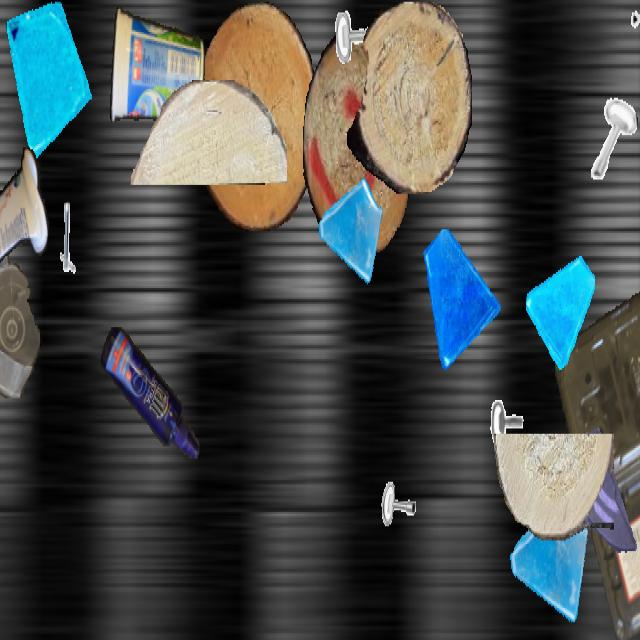glass: (5, 2, 97, 165), (508, 489, 592, 638), (421, 230, 501, 372), (562, 416, 640, 558), (317, 172, 385, 294), (526, 247, 594, 368)
metal: (329, 2, 389, 108), (375, 439, 427, 532), (587, 92, 637, 182), (37, 188, 87, 278), (488, 366, 534, 448), (630, 2, 640, 73)
plastic: (555, 265, 640, 638), (101, 327, 199, 459), (108, 2, 204, 126), (0, 144, 49, 297), (0, 240, 40, 396)
wood: (195, 2, 319, 229), (347, 2, 471, 194), (303, 36, 411, 252), (130, 80, 286, 183), (494, 434, 614, 540)
